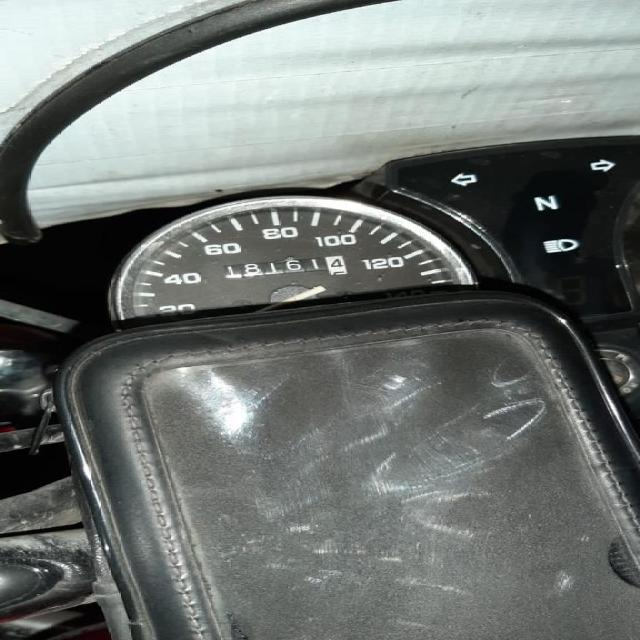odometer: (218, 254, 349, 279)
